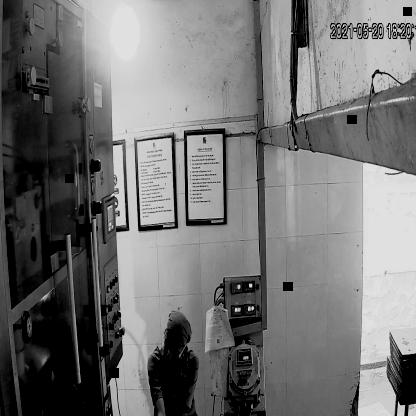goggles: (161, 332, 190, 364)
